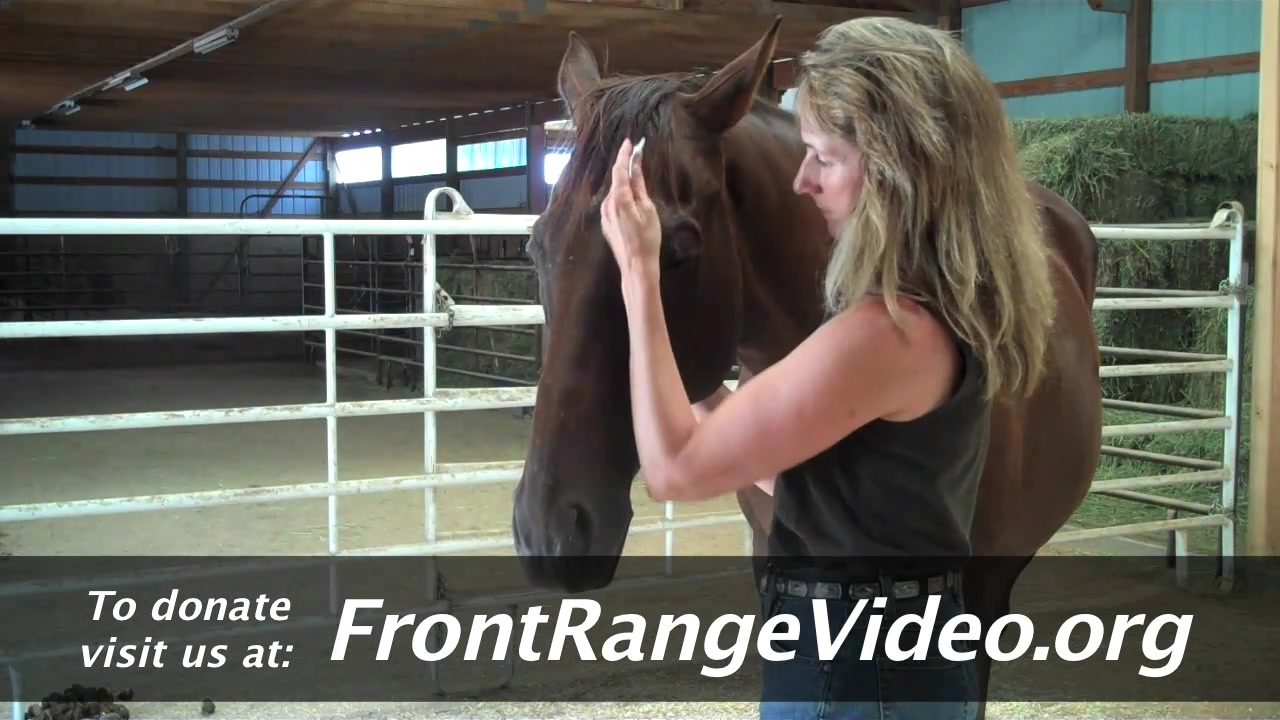horse: (510, 12, 1107, 720)
